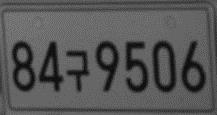0: (152, 39, 177, 93)
4: (37, 40, 64, 92)
5: (124, 39, 149, 93)
6: (180, 39, 207, 93)
8: (11, 40, 36, 91)
9: (94, 39, 119, 92)
구: (64, 48, 91, 93)
